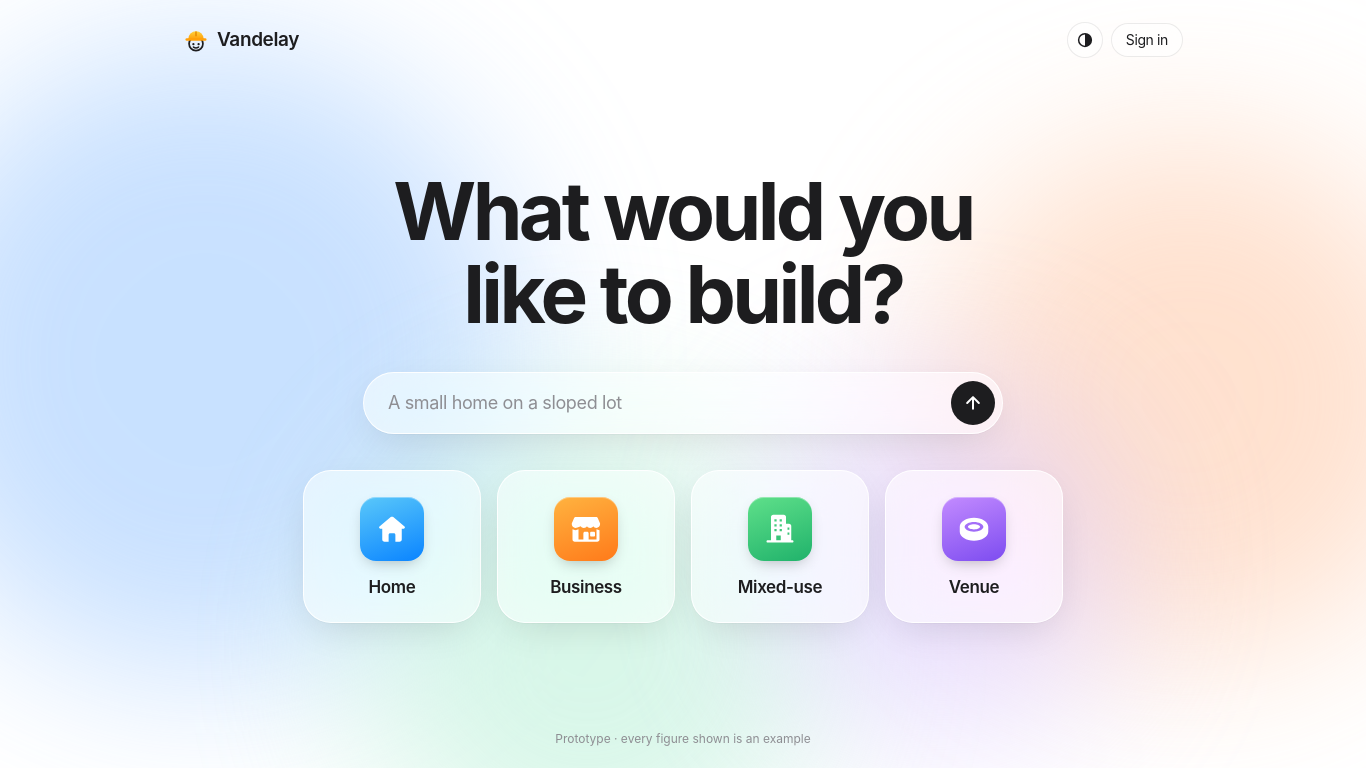
workspace › labels every figure as an example
Click the button "Home" at (392, 547), box [303,470,481,623]
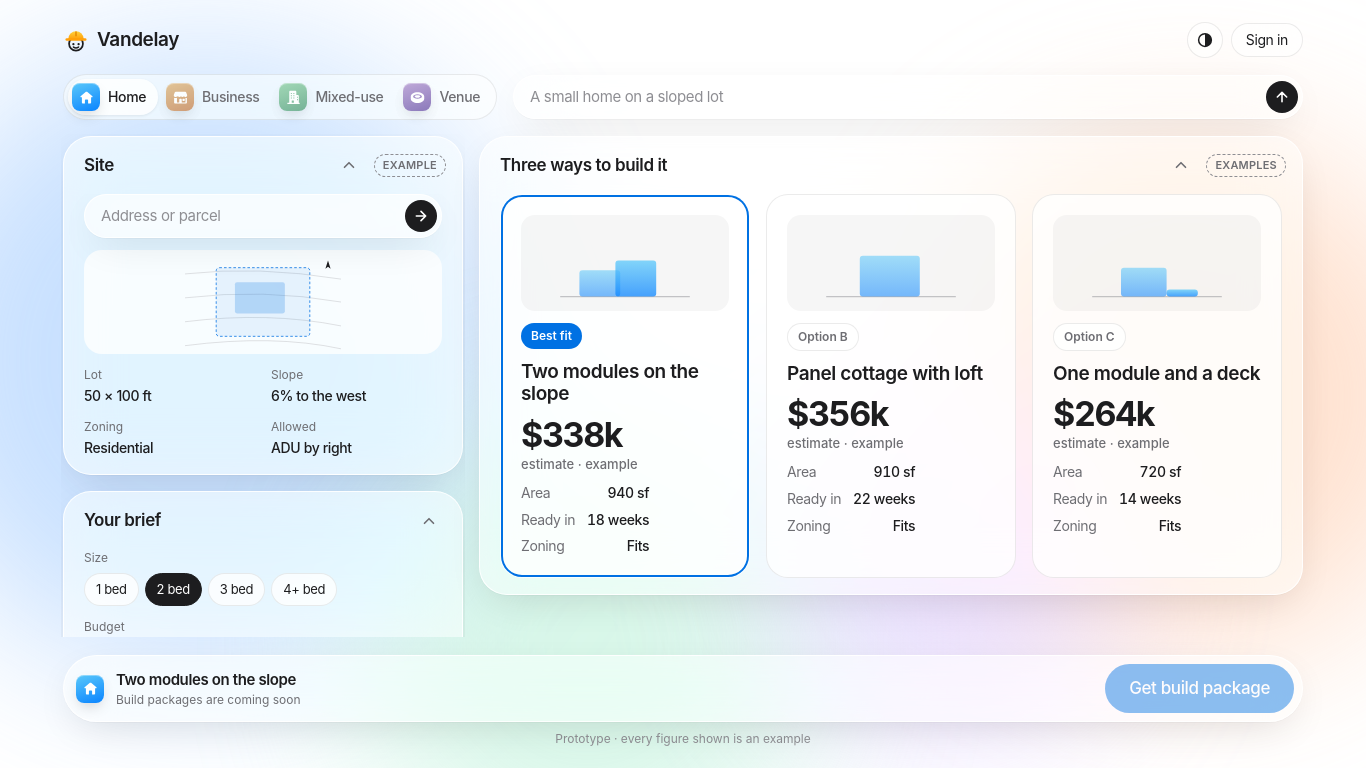
Expected: the 3rd text "estimate · example" is shown, [521,458,638,471]
Expected: the 1st text "estimate · example" is shown, [787,437,904,450]
Expected: the 2nd text "estimate · example" is shown, [1053,437,1170,450]
